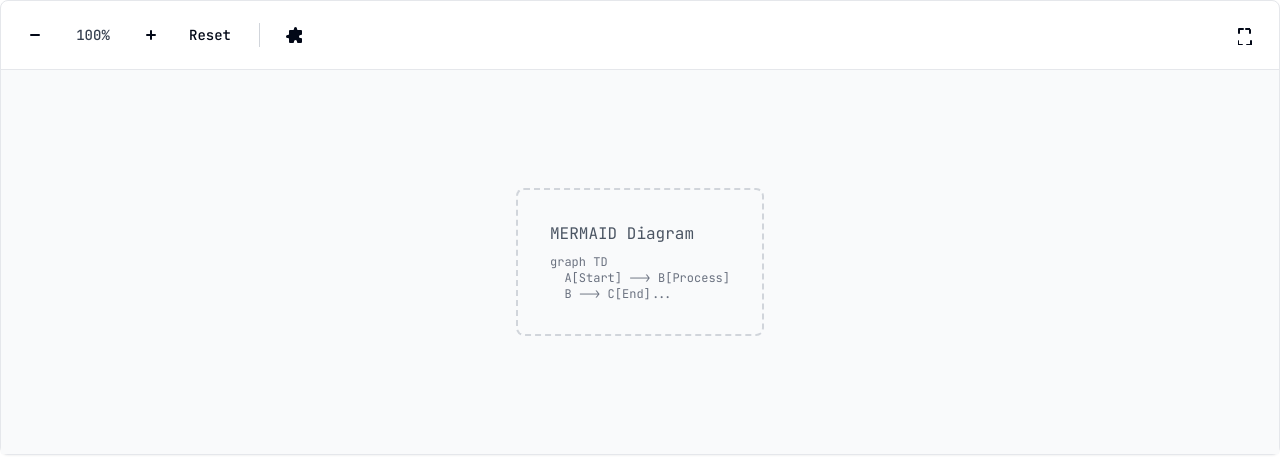
Test case: DiagramViewer › Zoom Controls › increases zoom when zoom in is clicked
Click the button named "zoom in".
click(151, 35)  # box top-left (133, 17), bottom-right (169, 53)
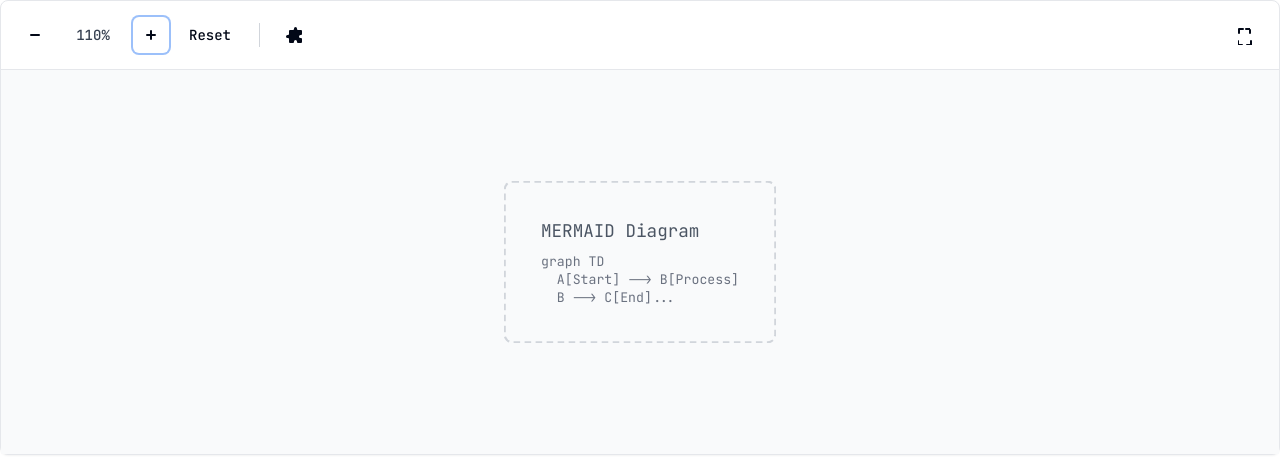
Now the element named "diagram controls" shows "110%", box top-left (1, 1), bottom-right (1279, 70)
